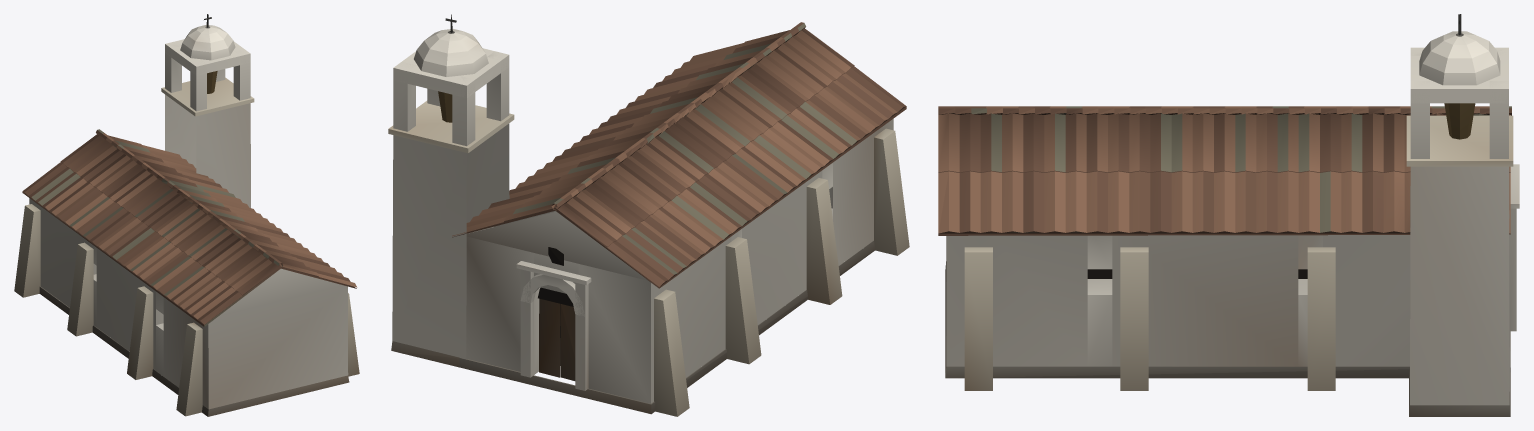
The model's file is casa_capilla_c_lod.glb.
3 renders of one model, left to right at view 1: azimuth 30°, elevation 25°; view 2: azimuth 150°, elevation 25°; view 3: azimuth 270°, elevation 25°, orthographic. The views are drawn at different scales.
Parts seen in each view (by area): view 1: casa_capilla_c; view 2: casa_capilla_c; view 3: casa_capilla_c.
Part boxes in pixels (bbox=[...]): casa_capilla_c: bbox=[14, 14, 359, 416]; casa_capilla_c: bbox=[388, 14, 909, 416]; casa_capilla_c: bbox=[938, 14, 1519, 416].
Bounding box in the file's own units: 10.82 × 11.98 × 16.55.
